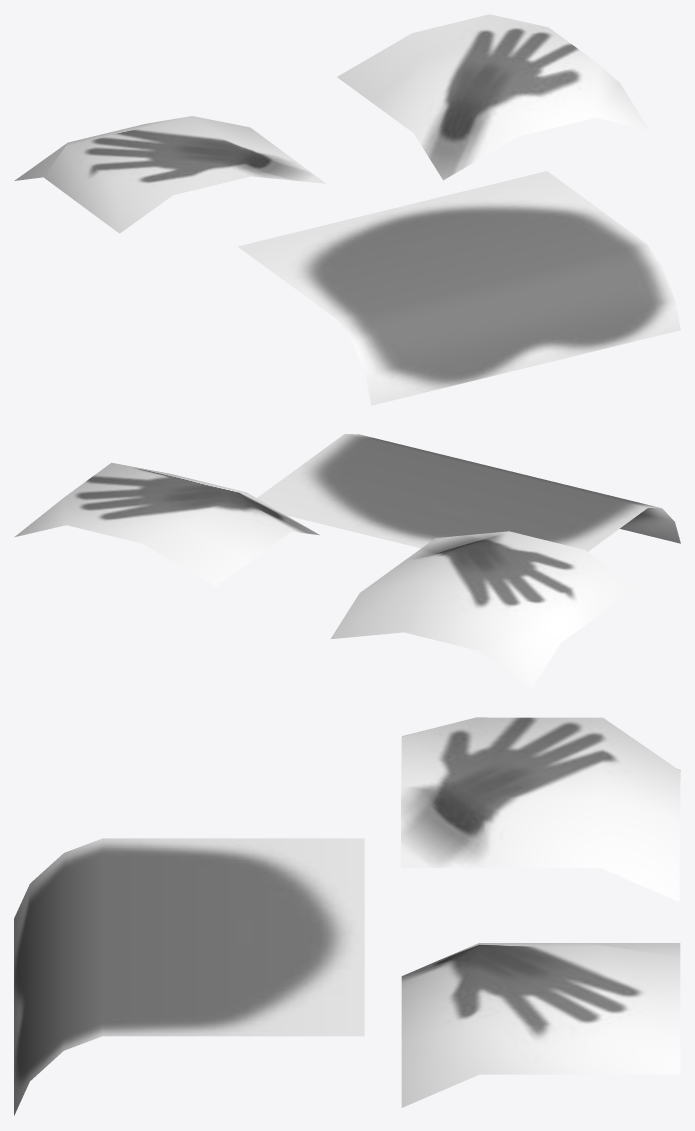
Rendered from ShadowObject.FBX.
3 renders of one model, top to bottom at view 1: azimuth 30°, elevation 25°; view 2: azimuth 150°, elevation 25°; view 3: azimuth 270°, elevation 25°, orthographic. The views are drawn at different scales.
Visible parts, largest first — view 1: Plate_Shadow, L_Shadow, R_Shadow; view 2: Plate_Shadow, R_Shadow, L_Shadow; view 3: Plate_Shadow, R_Shadow, L_Shadow.
Boxes of the visible parts, <box> form: Plate_Shadow: <box>238,171,680,405</box>; L_Shadow: <box>337,14,649,180</box>; R_Shadow: <box>14,116,325,233</box>; Plate_Shadow: <box>257,434,680,551</box>; R_Shadow: <box>330,531,636,688</box>; L_Shadow: <box>14,462,319,586</box>; Plate_Shadow: <box>14,838,364,1115</box>; R_Shadow: <box>400,717,680,901</box>; L_Shadow: <box>401,943,680,1107</box>.
Bounding box in the file's own units: 85.63 × 71.3 × 17.65.
1 material, 1 textured.
